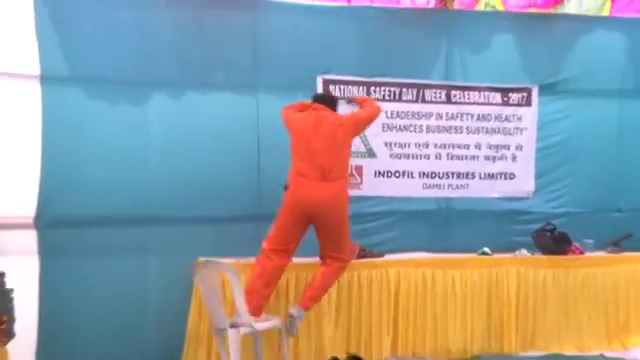helmet_off: (309, 90, 337, 116)
person: (235, 91, 382, 328)
